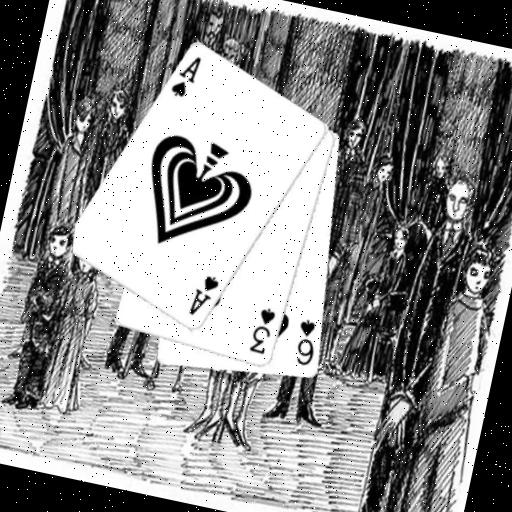3S: (245, 303, 279, 358)
6S: (289, 314, 323, 369)
AS: (166, 49, 204, 102), (185, 269, 222, 321)
